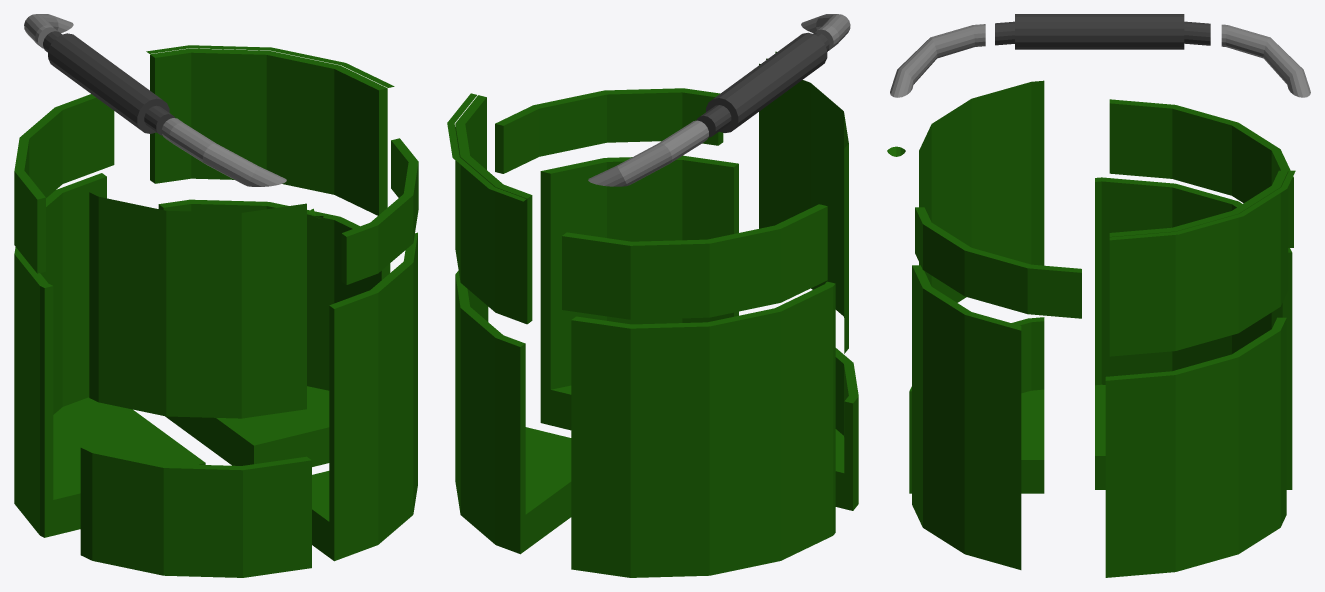
The model's file is Destroyed Bucket.fbx.
3 renders of one model, left to right at view 1: azimuth 30°, elevation 25°; view 2: azimuth 150°, elevation 25°; view 3: azimuth 270°, elevation 25°, orthographic. The views are drawn at different scales.
Parts seen in each view (by area): view 1: Cube.084, Cube.086, Cube.082, Cube.080, Cube.081, Cube.083, Cube.085, Cube.087, Cube.088, Cube.089, Cube.090; view 2: Cube.082, Cube.085, Cube.081, Cube.083, Cube.084, Cube.086, Cube.087, Cube.088, Cube.080, Cube.090, Cube.089; view 3: Cube.083, Cube.081, Cube.086, Cube.084, Cube.082, Cube.085, Cube.087, Cube.088, Cube.080, Cube.089, Cube.090.
Boxes of the visible parts, x1,y1,x2,y2 form: Cube.084: (89,192,323,418); Cube.086: (146,45,394,215); Cube.082: (14,173,205,537); Cube.080: (80,445,311,577); Cube.081: (312,232,417,561); Cube.083: (158,199,390,466); Cube.085: (14,94,114,273); Cube.087: (341,138,418,284); Cube.088: (43,31,174,135); Cube.089: (161,118,286,186); Cube.090: (24,14,73,48); Cube.082: (571,281,835,577); Cube.085: (562,204,827,319); Cube.081: (540,155,738,430); Cube.083: (455,270,571,554); Cube.084: (759,51,848,353); Cube.086: (447,93,532,324); Cube.087: (495,88,723,173); Cube.088: (696,32,829,137); Cube.080: (835,348,858,510); Cube.090: (588,120,708,186); Cube.089: (801,14,850,50); Cube.083: (1105,317,1286,577); Cube.081: (912,265,1021,569); Cube.086: (1109,170,1295,356); Cube.084: (887,80,1044,302); Cube.082: (1095,177,1292,489); Cube.085: (1109,99,1293,247); Cube.087: (915,207,1081,318); Cube.088: (995,14,1210,49); Cube.080: (909,317,1044,493); Cube.089: (890,24,985,97); Cube.090: (1221,24,1310,97).
Bounding box in the file's own units: 140 × 168 × 150.
